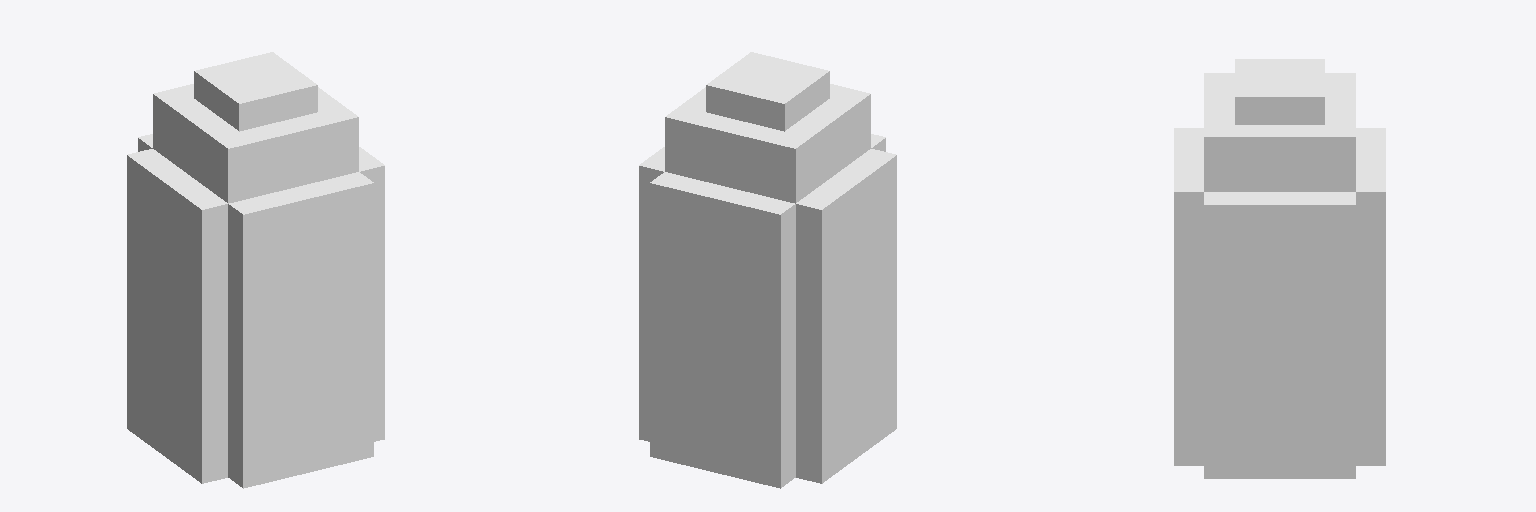
File: AmondWater.obj
3 renders of one model, left to right at view 1: azimuth 30°, elevation 25°; view 2: azimuth 150°, elevation 25°; view 3: azimuth 270°, elevation 25°, orthographic.
Visible parts, largest first — view 1: object 1; view 2: object 1; view 3: object 1.
Boxes of the visible parts, box(x1,y1,x2,y2) form: object 1: box(127, 52, 384, 488); object 1: box(639, 52, 896, 488); object 1: box(1174, 59, 1385, 478).
Bounding box in the file's own units: 0.7 × 1.3 × 0.7.